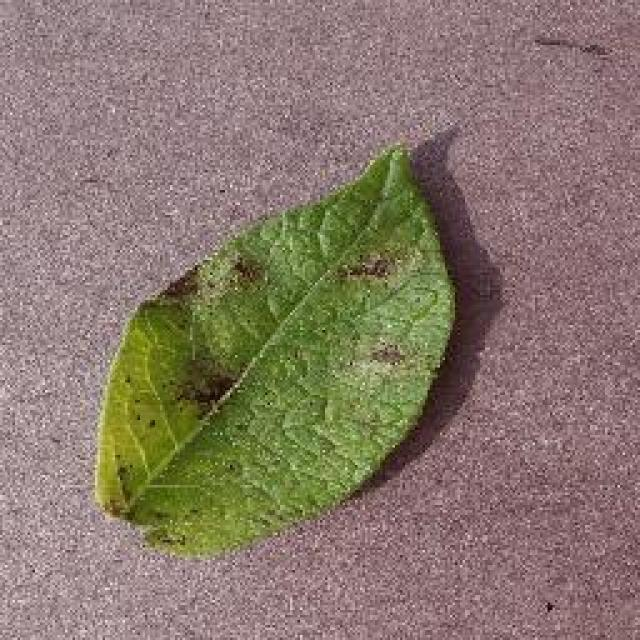Potato: (90, 140, 458, 560)
